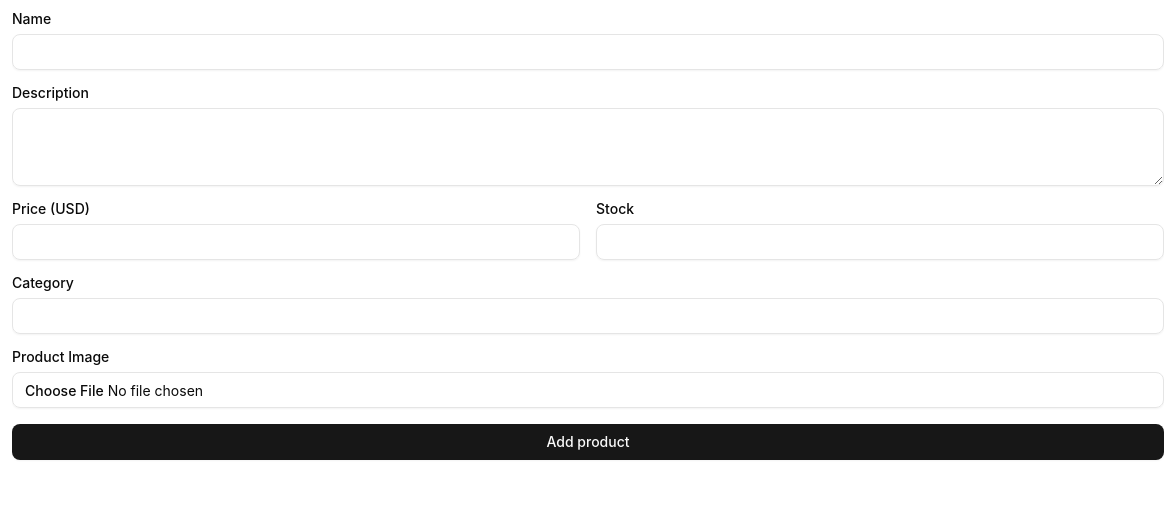
Test case: ProductForm › shows a validation error for a name shorter than 2 characters
The image size is (1176, 505).
Type "A" into the field labelled "Name". click: (588, 52)
box: [12,34,1164,70]
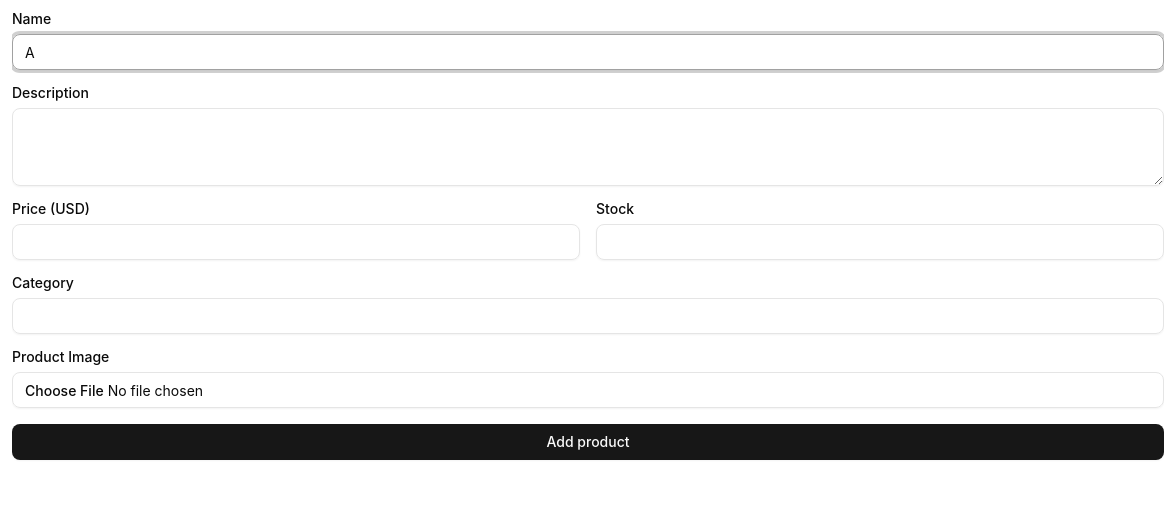
Type "10" into the number field labelled "Price (USD)". click: (296, 242)
box: [12,224,580,260]
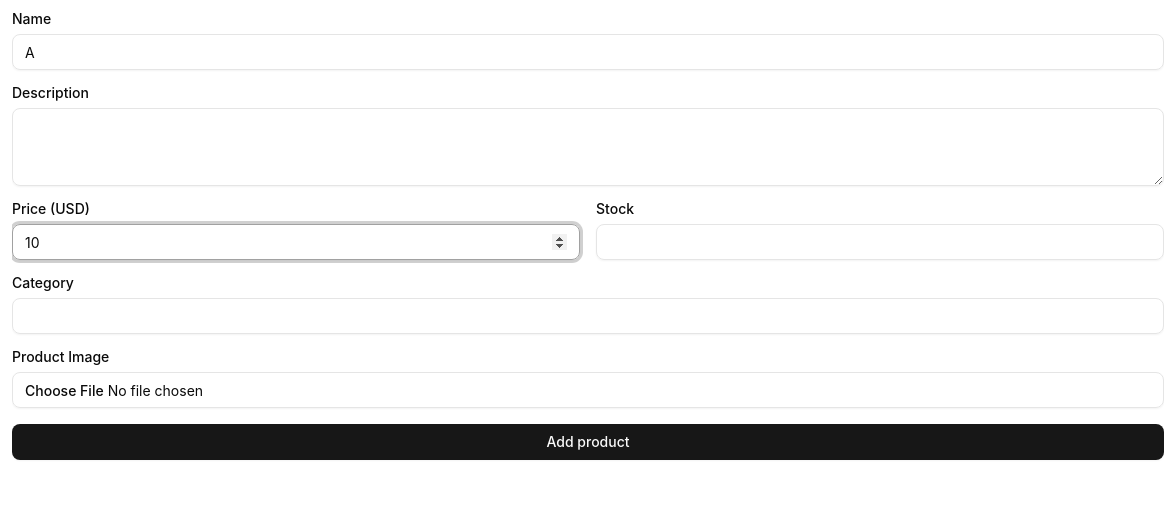
Type "1" into the number field labelled "Stock". click: (880, 242)
box: [596,224,1164,260]
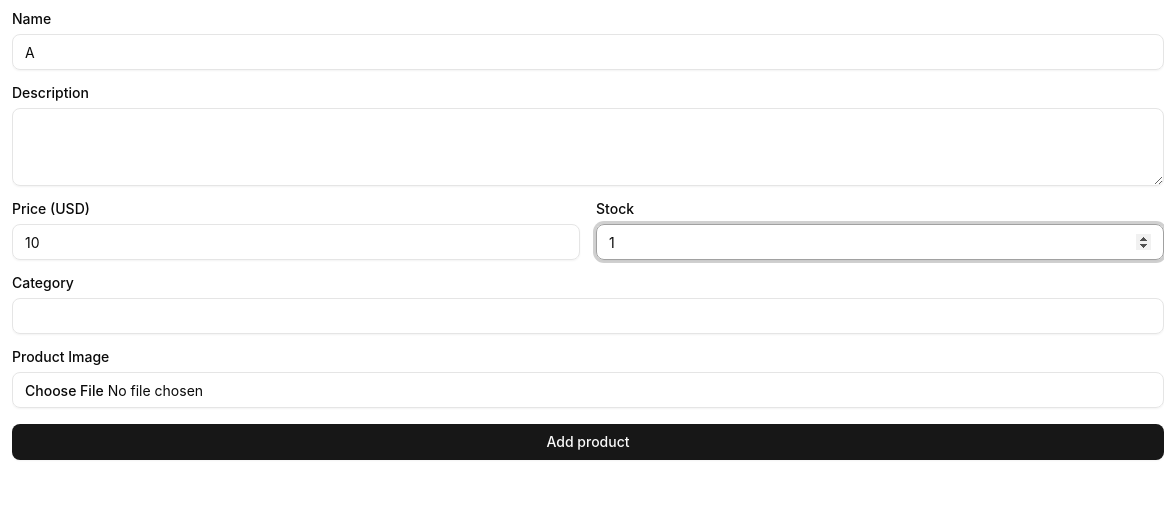
Type "misc" into the field labelled "Category". click: (588, 316)
box: [12,298,1164,334]
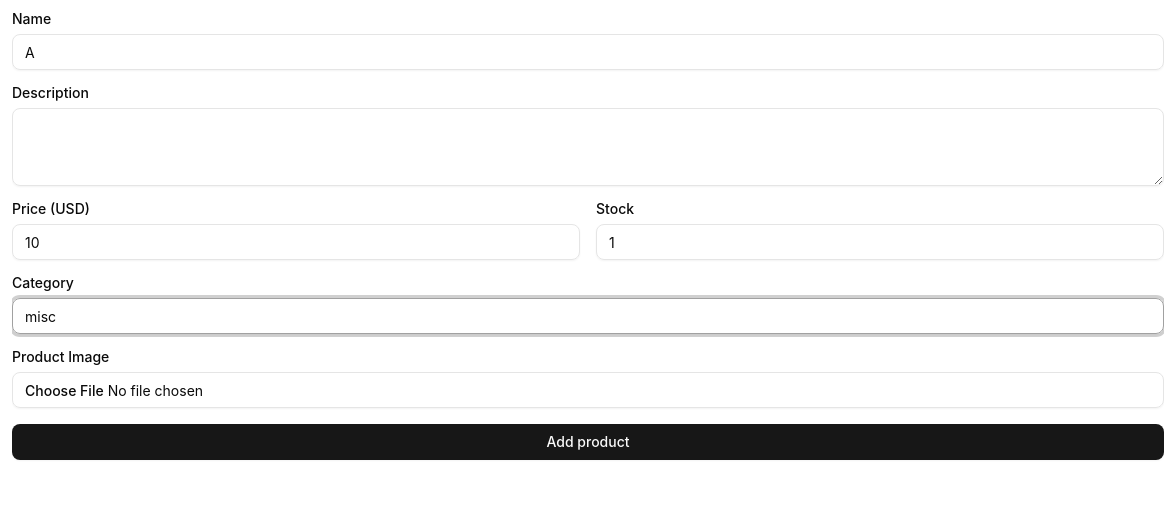
Click the button "Add product". click: (588, 442)
box: [12,424,1164,460]
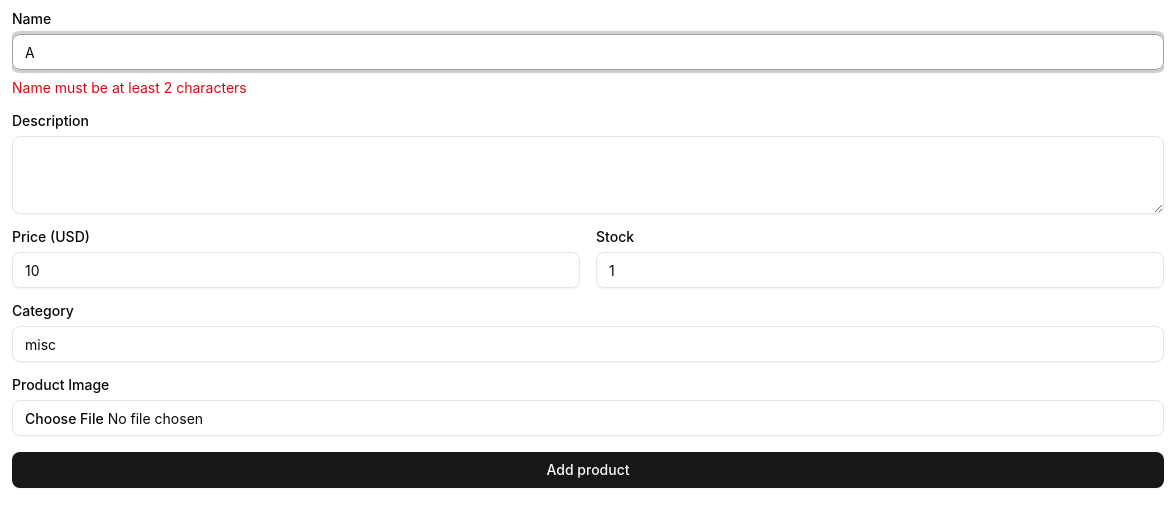
Expected: the text "Name must be at least 2 characters" is shown, [12,79,247,96]
